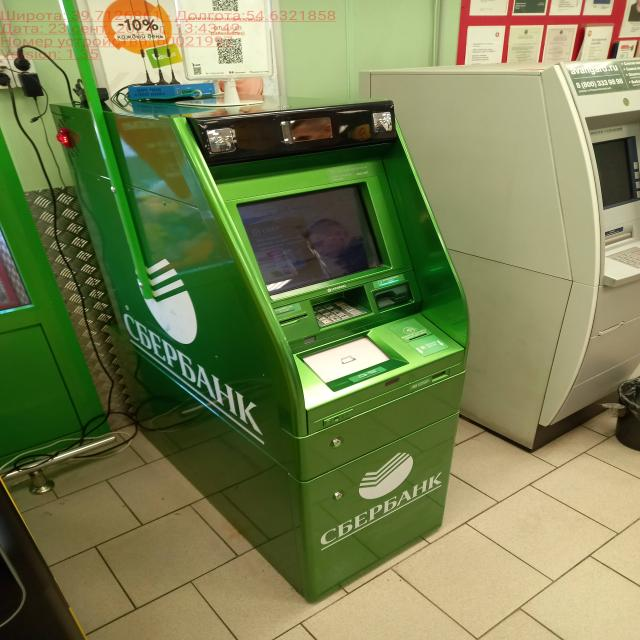bank: (49, 93, 476, 602)
